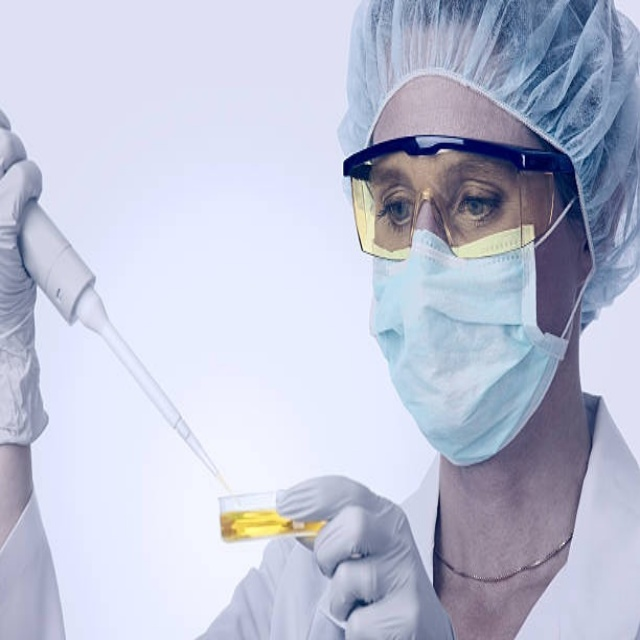Gafas: (342, 142, 571, 262)
Guantes: (1, 97, 85, 454), (278, 472, 448, 640)
Mascara: (369, 194, 582, 467)
